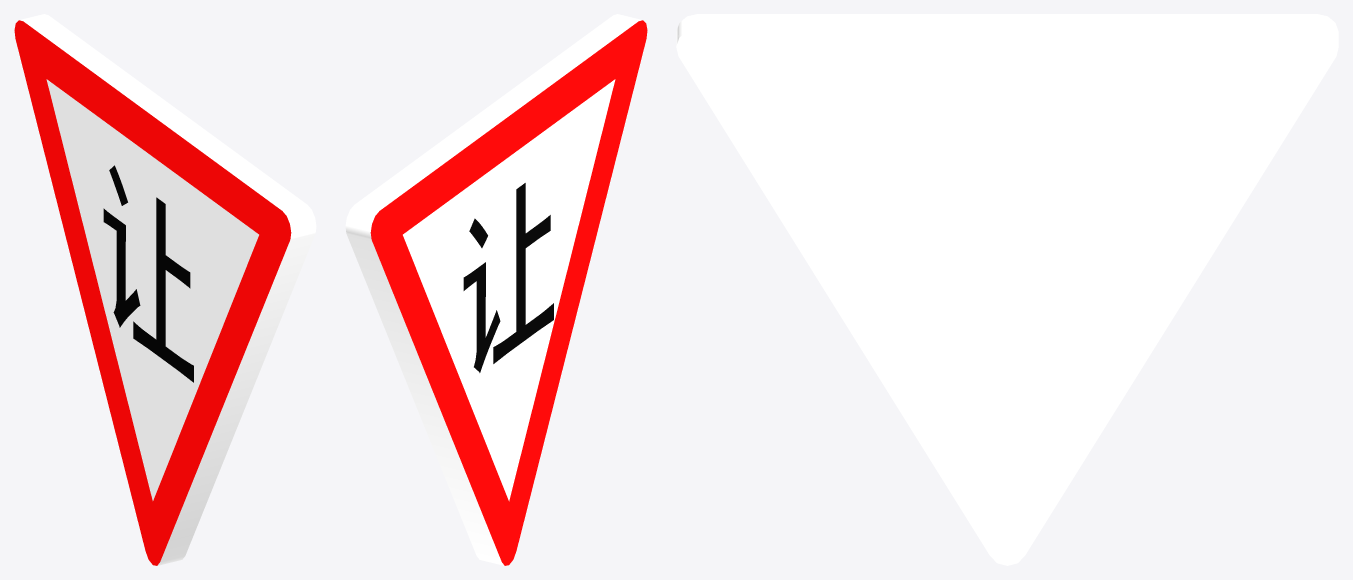
File: Yield.glb
3 renders of one model, left to right at view 1: azimuth 30°, elevation 25°; view 2: azimuth 150°, elevation 25°; view 3: azimuth 270°, elevation 25°, orthographic. The views are drawn at different scales.
Parts seen in each view (by area): view 1: Yield; view 2: Yield; view 3: Yield.
Part boxes in pixels (x1,y1,x2,y2): Yield: [14, 14, 316, 565]; Yield: [345, 14, 647, 565]; Yield: [676, 14, 1338, 565].
Size of the model in its own units: 0.0646 by 1.02 by 1.14.
